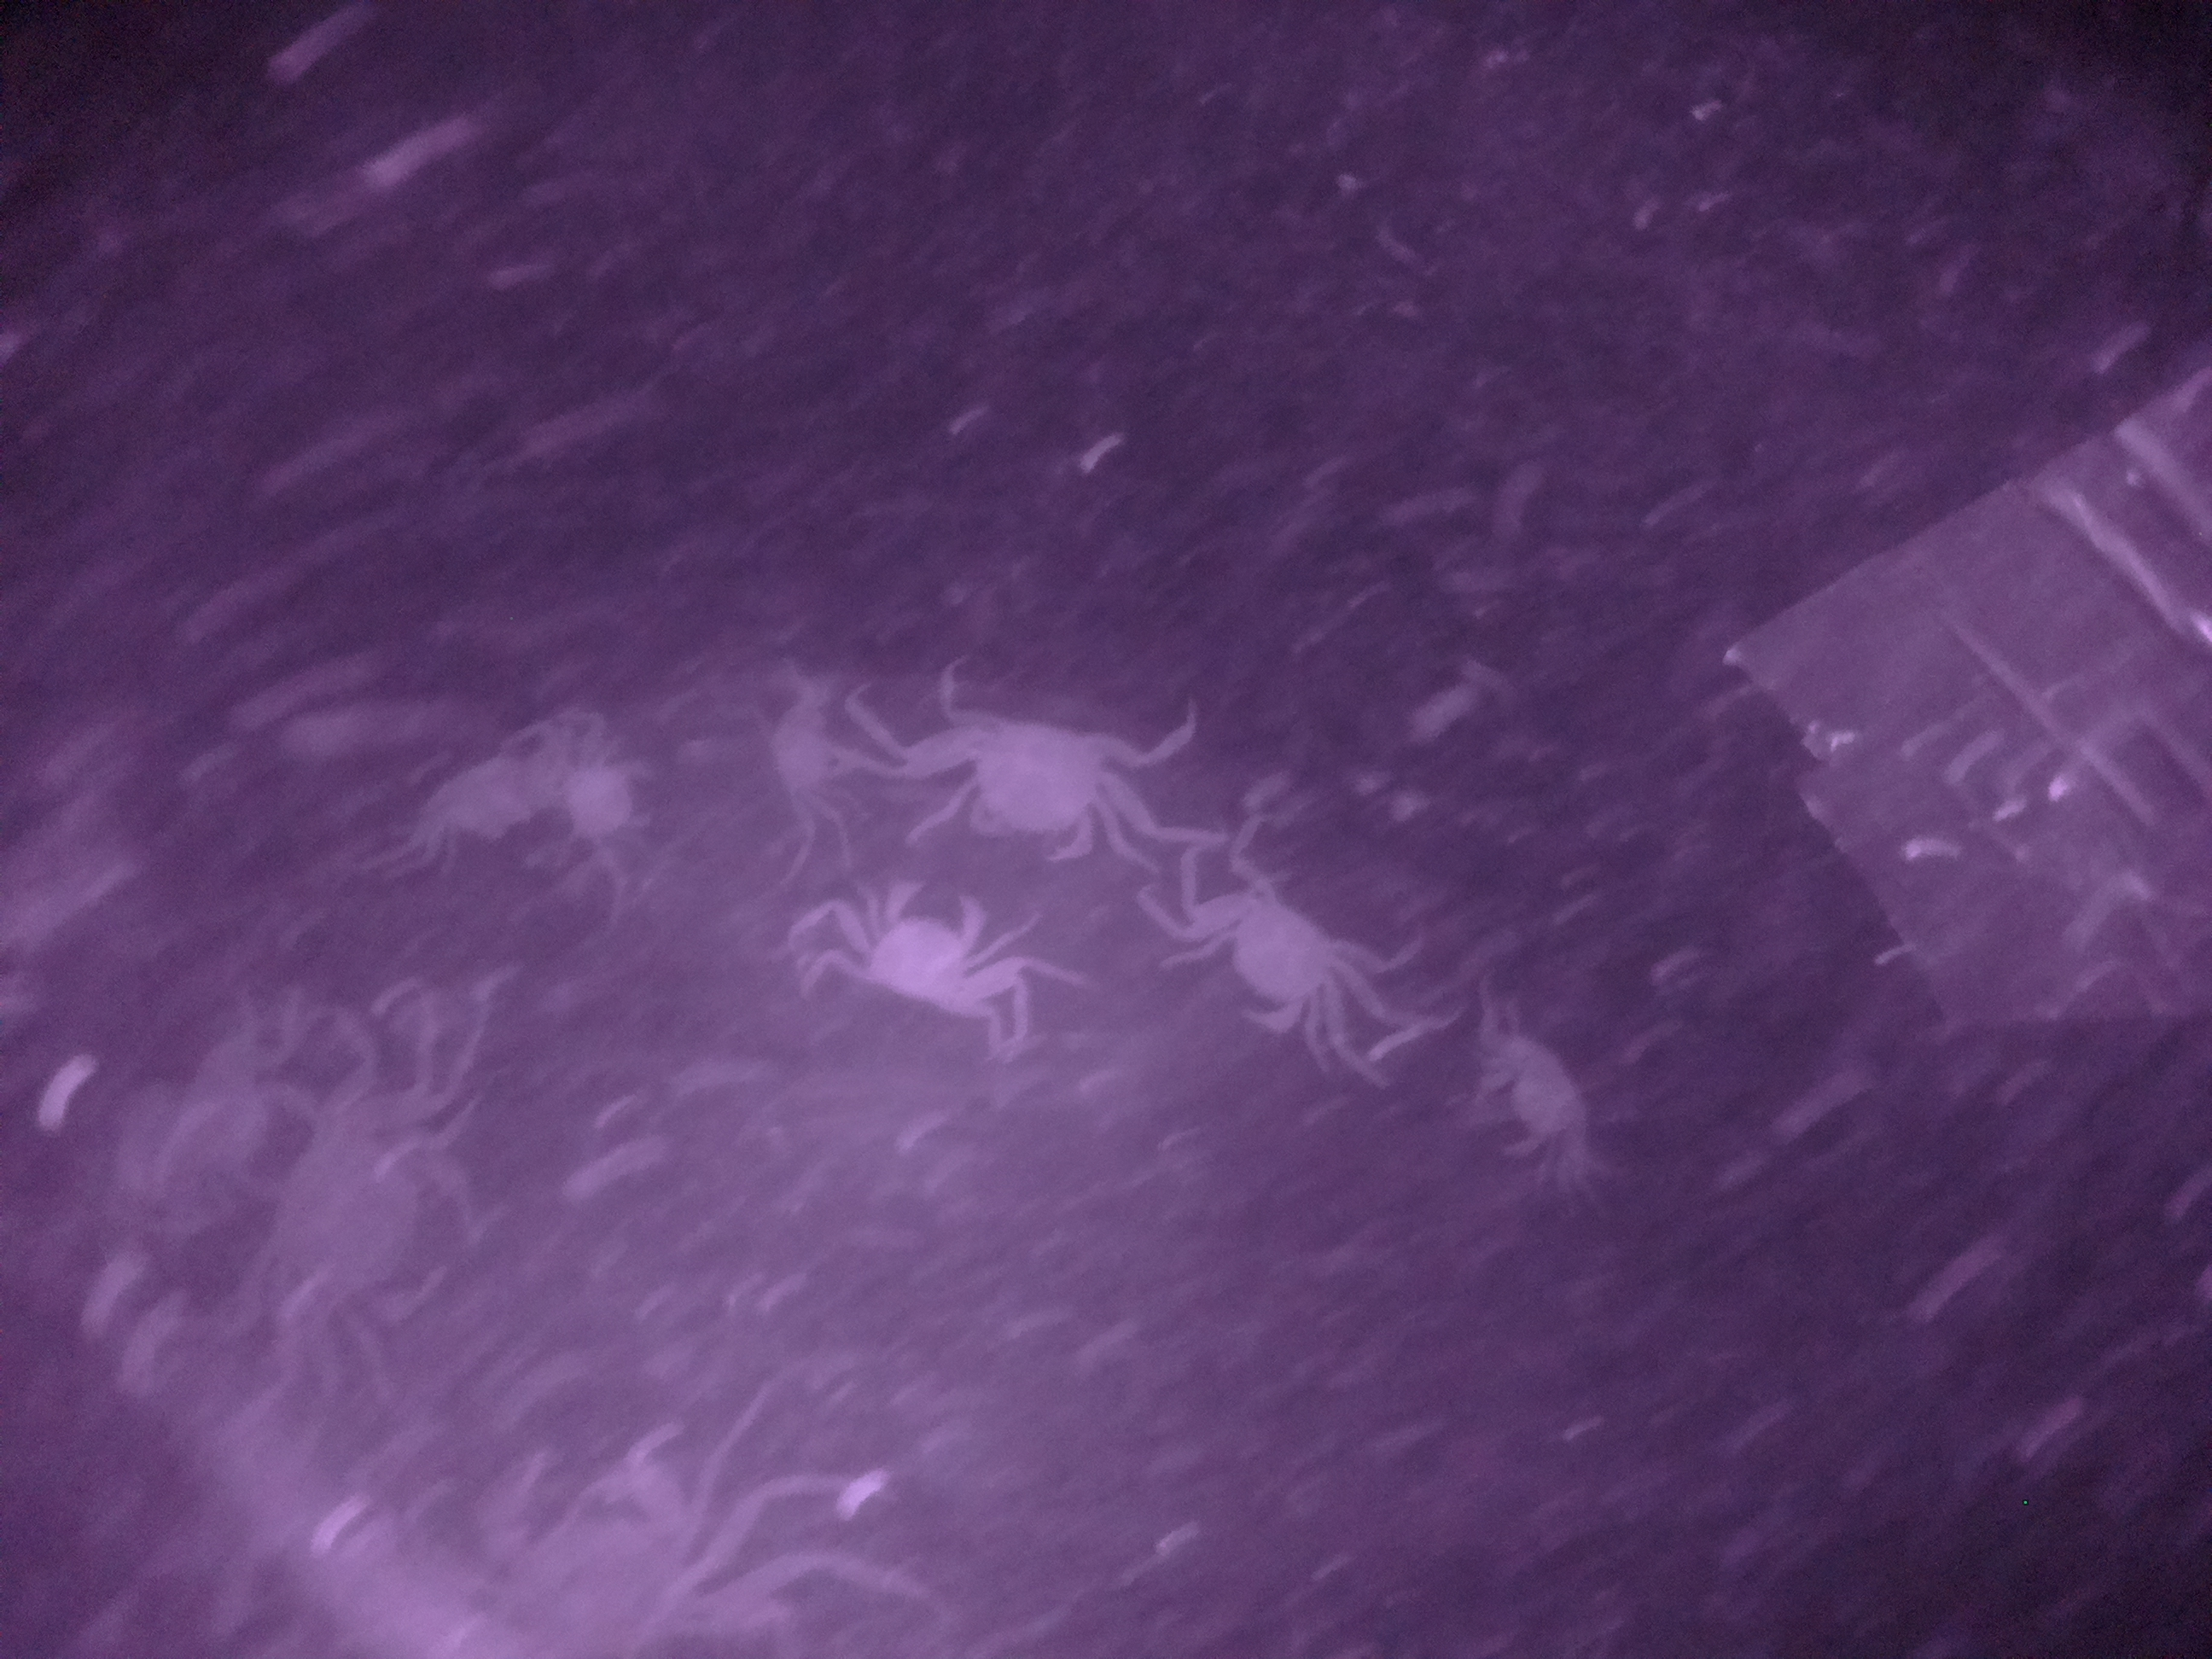Crab: (1158, 850, 1406, 1032), (942, 692, 1143, 871), (840, 875, 1007, 1014)
